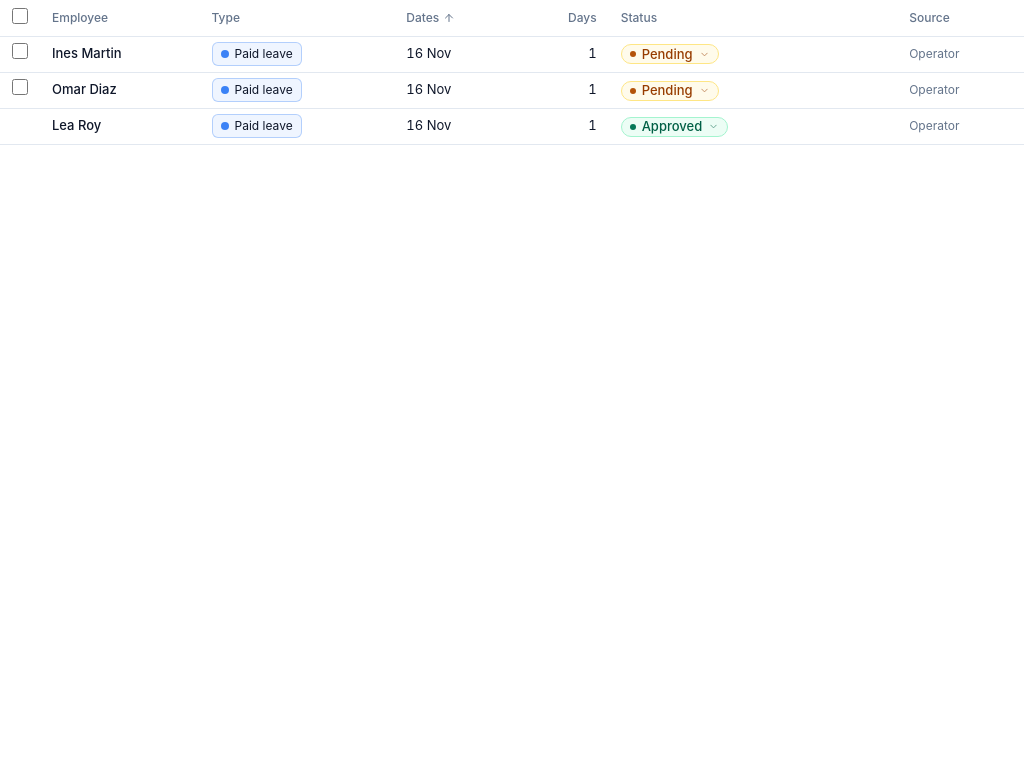
Test case: bulk approve › Undo sets every approved id back to pending through the status endpoint
The image size is (1024, 768).
Click the checkbox named "Select all pending leaves" at (20, 16), box [12,8,28,24]
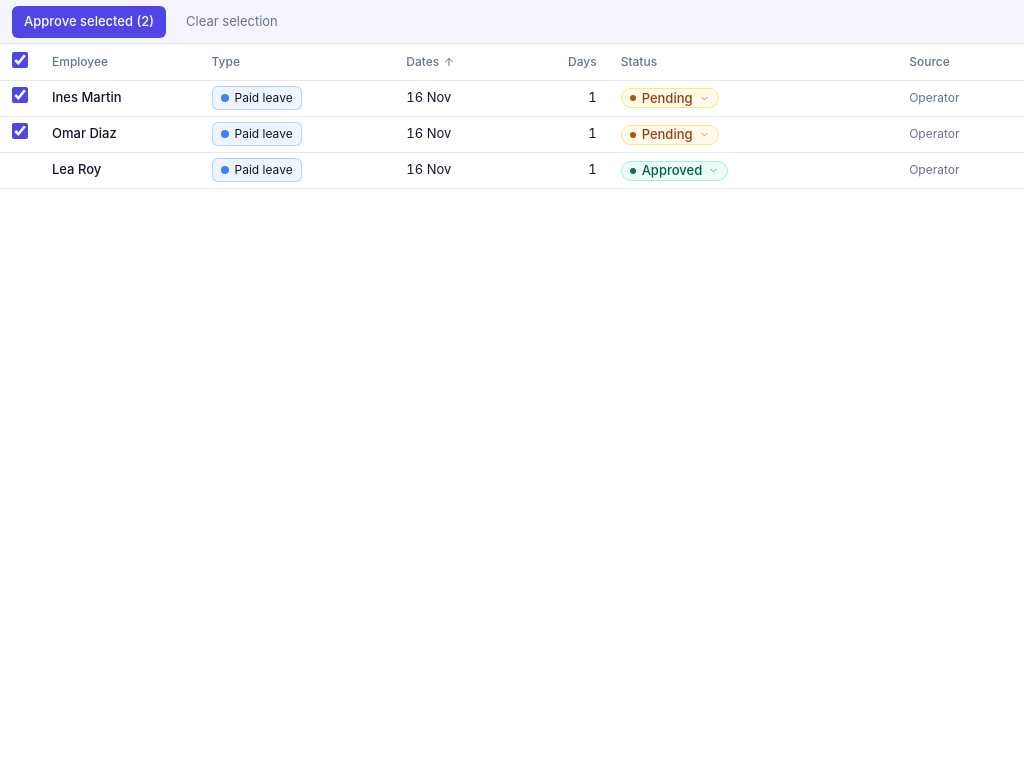
Click the button "Approve selected (2)" at (89, 22), box [12,6,166,38]
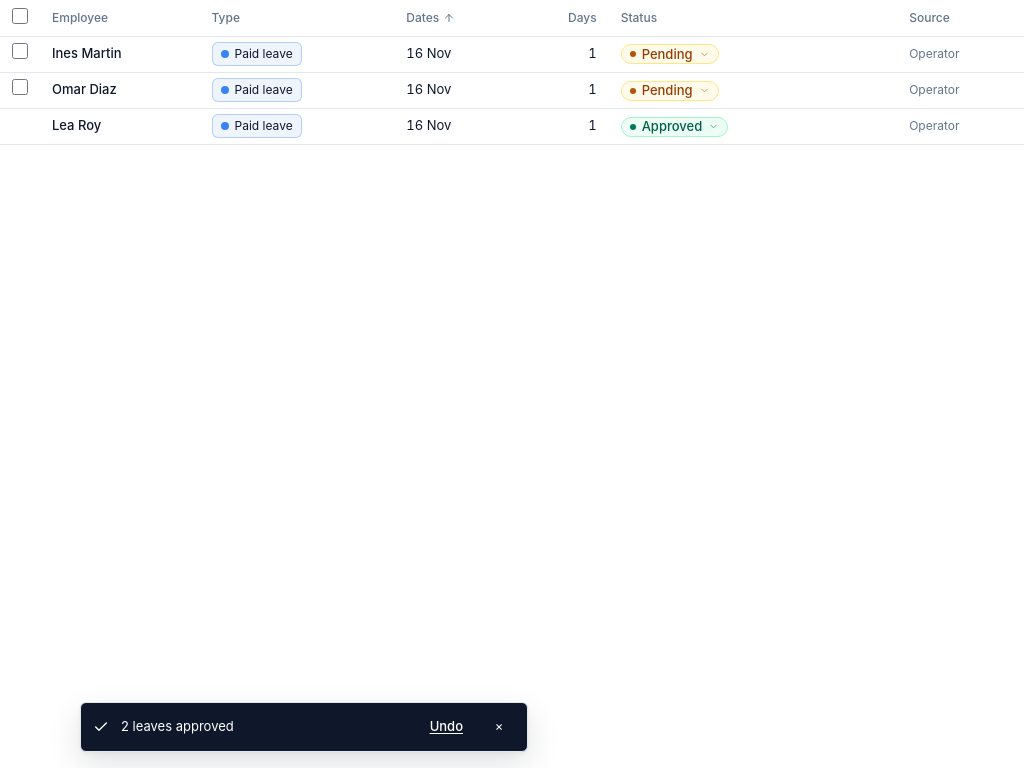
Now the text "2 leaves approved" is shown, box [121,718,234,734]
Click the button "Undo" at (446, 727), box [422,711,471,743]
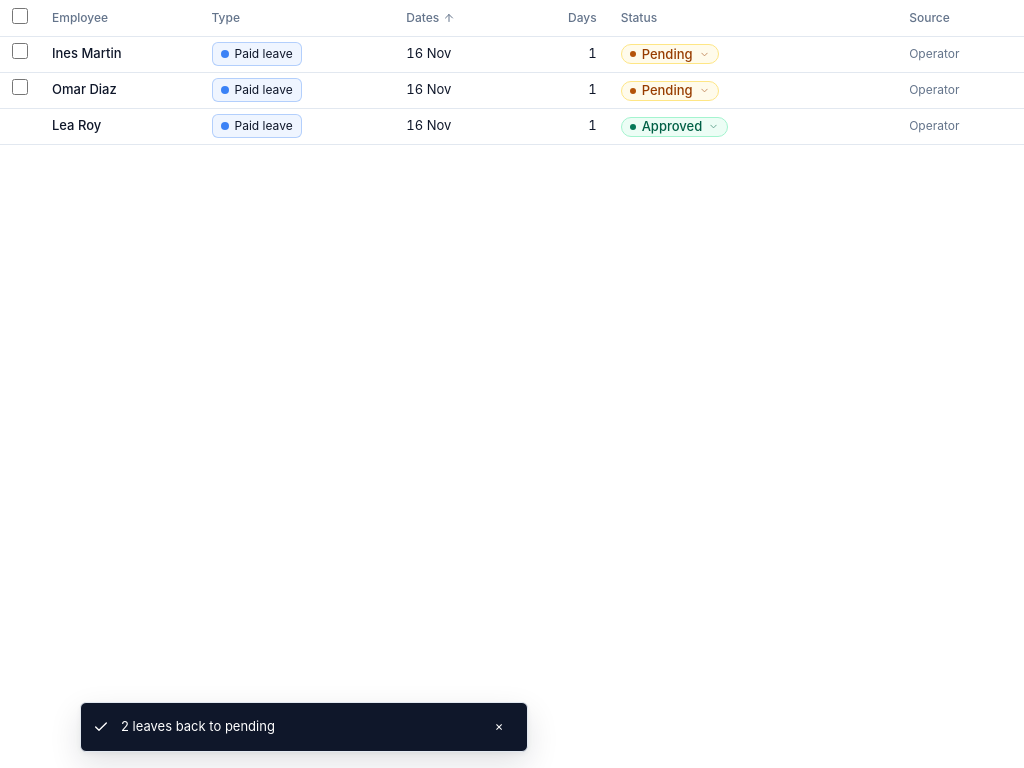
Now the text "2 leaves back to pending" is shown, box [121,718,275,734]
